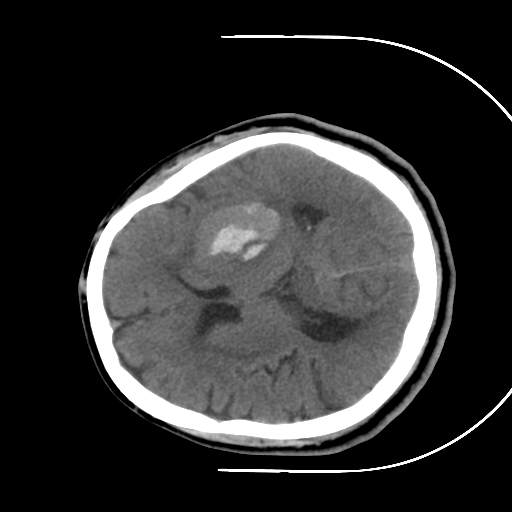a: (179, 190, 292, 279)
